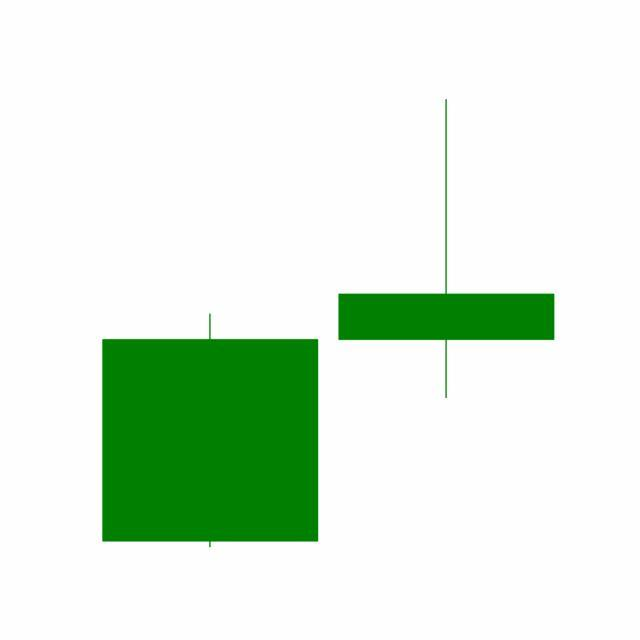Spinning Top: (328, 97, 566, 403)
